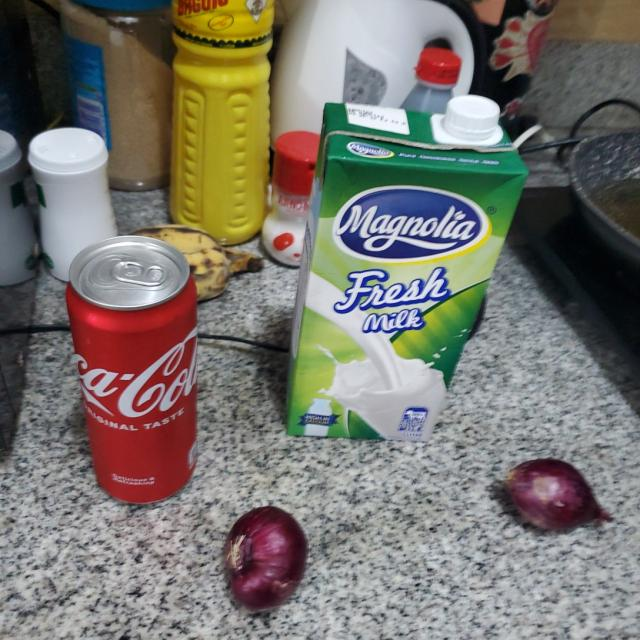coke: (65, 233, 203, 503)
milk: (282, 96, 524, 436)
onion: (222, 508, 307, 611), (505, 457, 615, 531)
